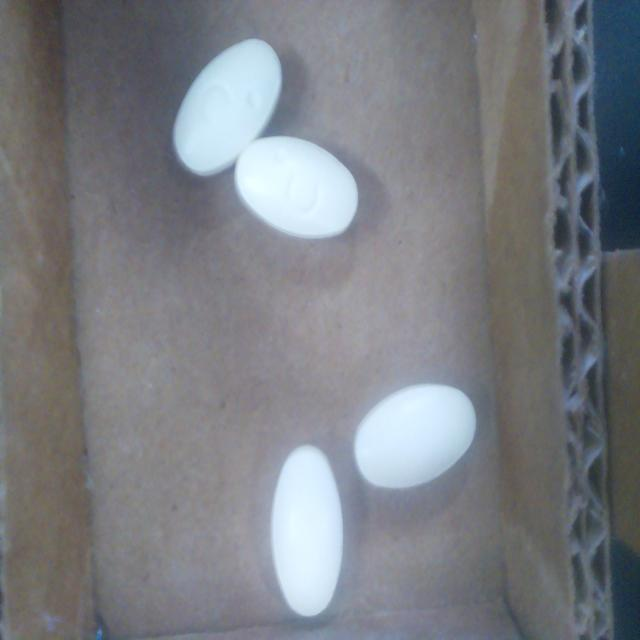pill: (173, 39, 281, 176), (354, 384, 476, 489), (234, 136, 358, 239), (271, 445, 343, 616)
